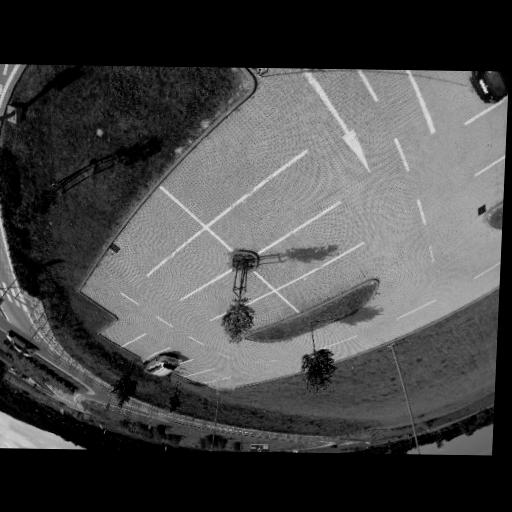busy: (467, 72, 509, 108), (141, 351, 184, 379)
free: (191, 137, 264, 192), (242, 193, 297, 234), (126, 221, 175, 256), (467, 121, 503, 161), (170, 251, 213, 283), (285, 235, 328, 267), (303, 271, 341, 298), (242, 300, 280, 327), (199, 287, 228, 310), (106, 323, 134, 342), (135, 339, 156, 353), (215, 379, 237, 391), (180, 363, 199, 373), (198, 373, 217, 381)
